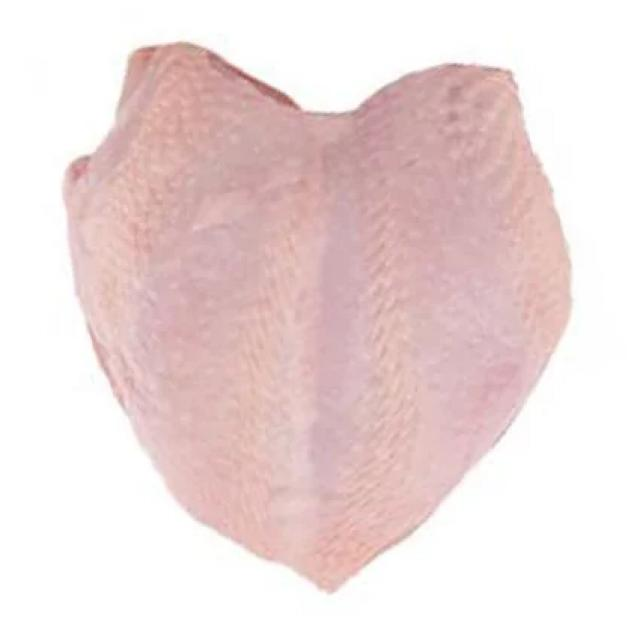Chicken: (67, 38, 574, 596)
